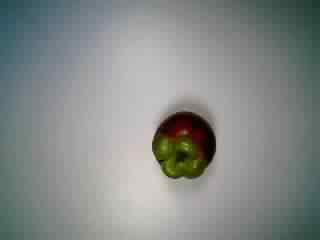mangosteen: (147, 107, 222, 180)
